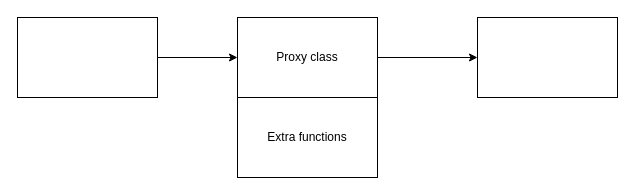
This 635x195 diagram has some shape labels left out. The centre of each missing label's shape, as x and y in pixels:
"Caller" belongs at pixel 87 57.
"Original code sandbox class" belongs at pixel 547 57.
